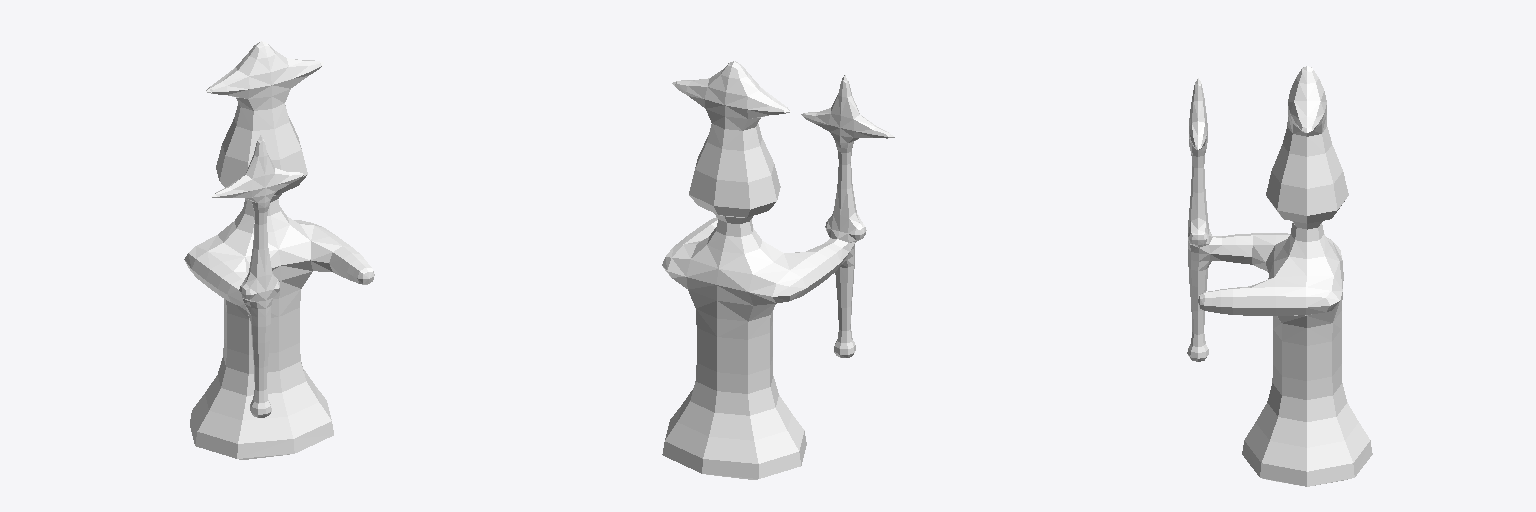
3 views of the same model, side by side, from view 1: azimuth 30°, elevation 25°; view 2: azimuth 150°, elevation 25°; view 3: azimuth 270°, elevation 25° (orthographic).
Parts seen in each view (by area): view 1: Cube; view 2: Cube; view 3: Cube.
Part boxes in pixels (x1,y1,x2,y2): Cube: (184, 41, 374, 459); Cube: (662, 61, 894, 479); Cube: (1187, 66, 1372, 486).
Bounding box in the file's own units: 5.3 × 11.7 × 4.91.
1 materials, 1 textured.